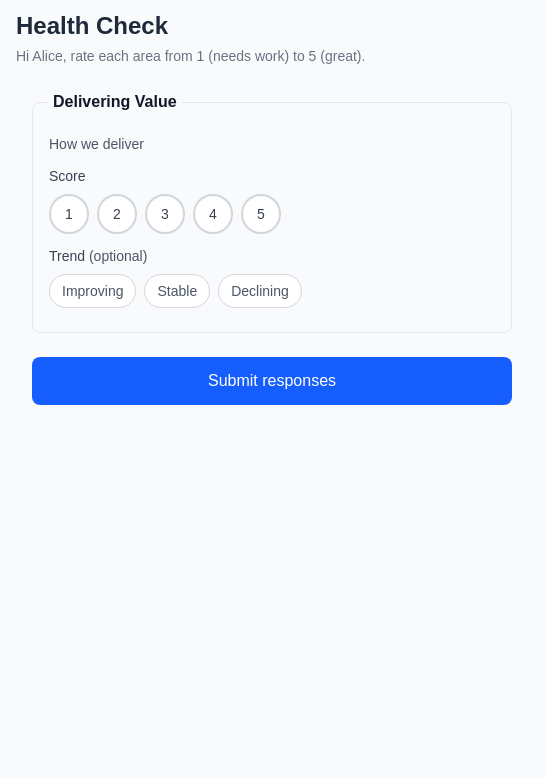
Test: the confirmation carries the time it was saved › changes even when the answers do not
Click the radio button labelled "4": (213, 214) [193, 194, 233, 234]
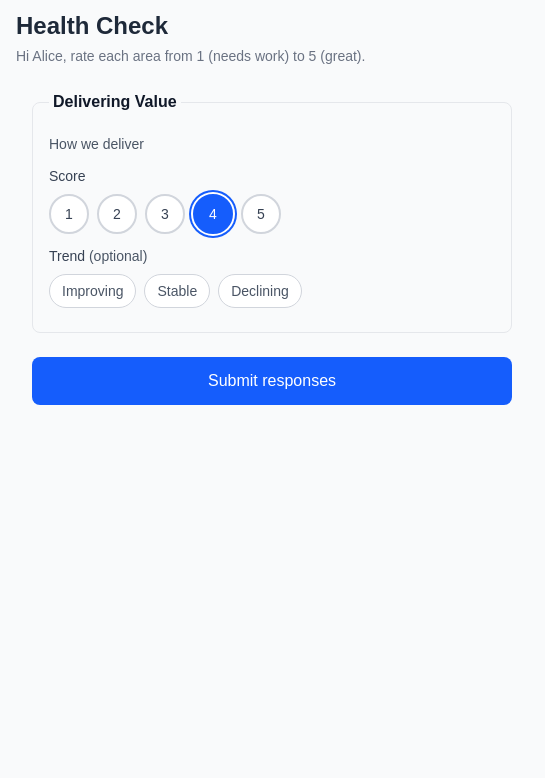
Click the button "Submit responses": (272, 381) [32, 357, 512, 405]
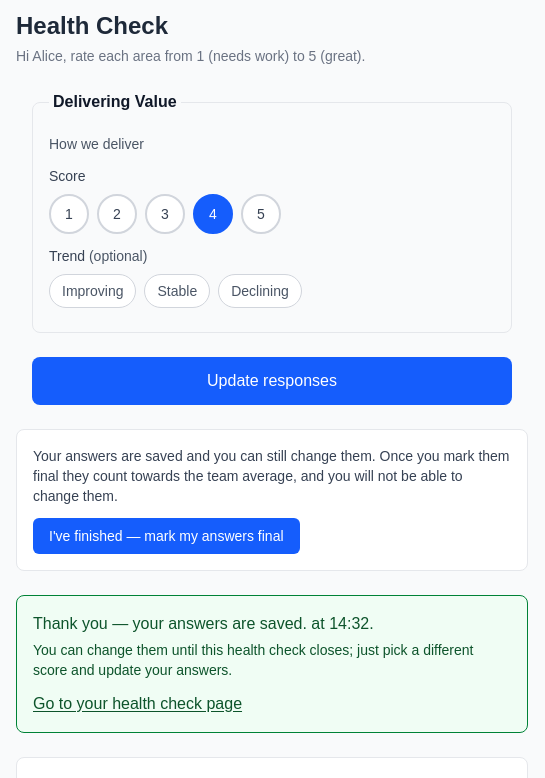
expect the message is shown: met, box [16, 595, 528, 733]
Click the button "Update responses": (272, 381) [32, 357, 512, 405]
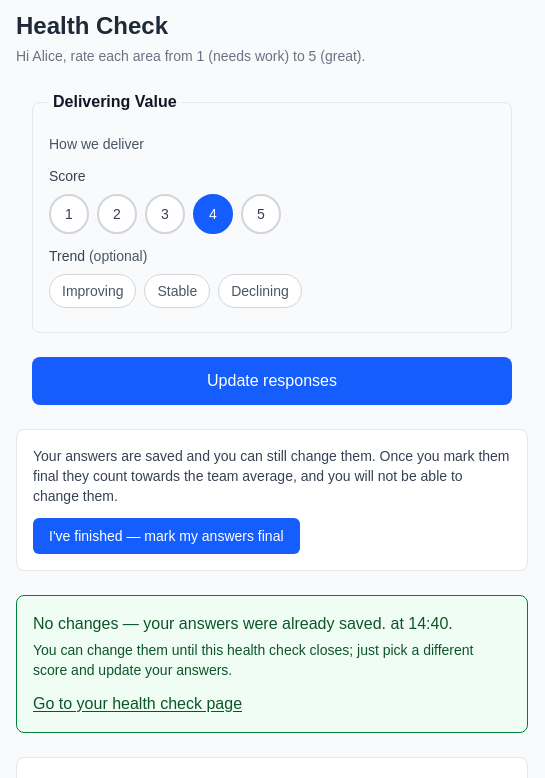
expect the message shows "No changes": met, box [33, 615, 386, 632]
expect the message shows "14:40": met, box [408, 615, 448, 632]
